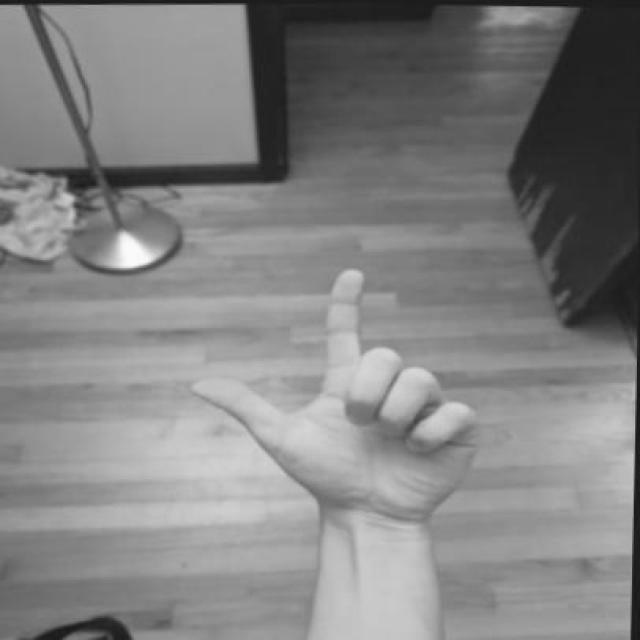L: (178, 256, 494, 529)
